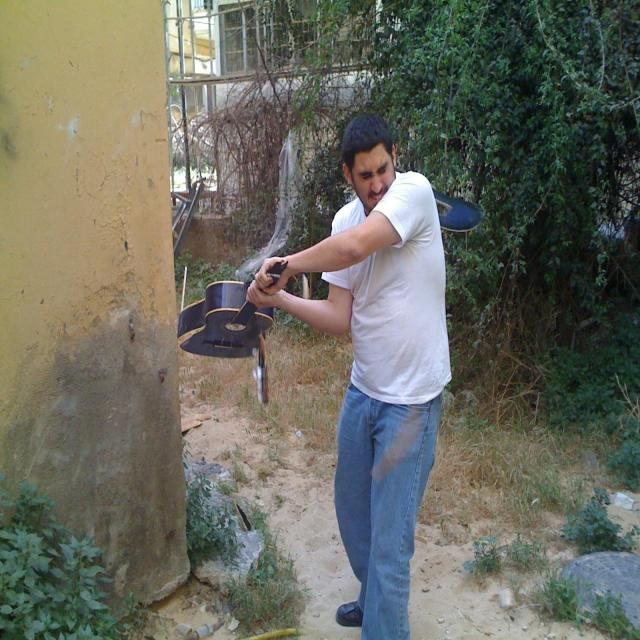guitar: (169, 257, 292, 363)
